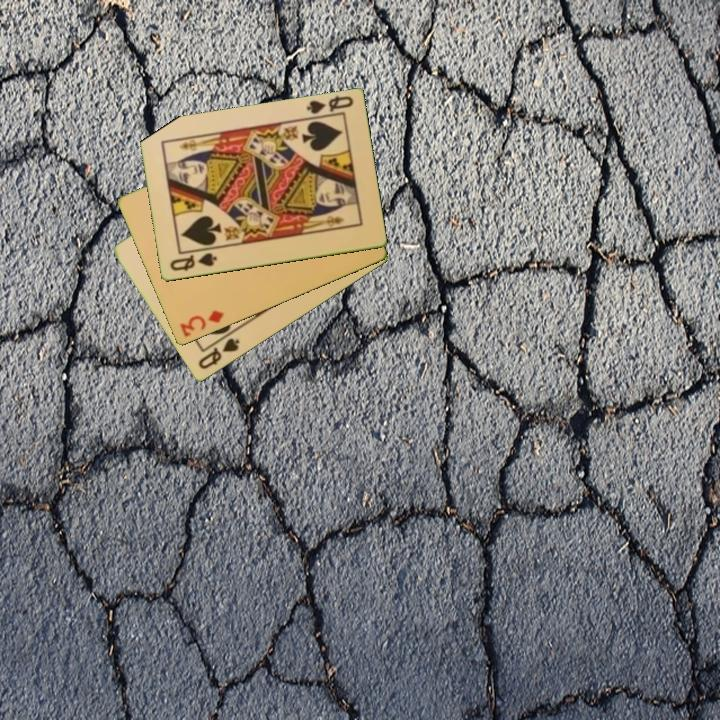3d: (176, 307, 227, 340)
Qs: (194, 335, 243, 373), (166, 249, 220, 274), (303, 92, 356, 117)
